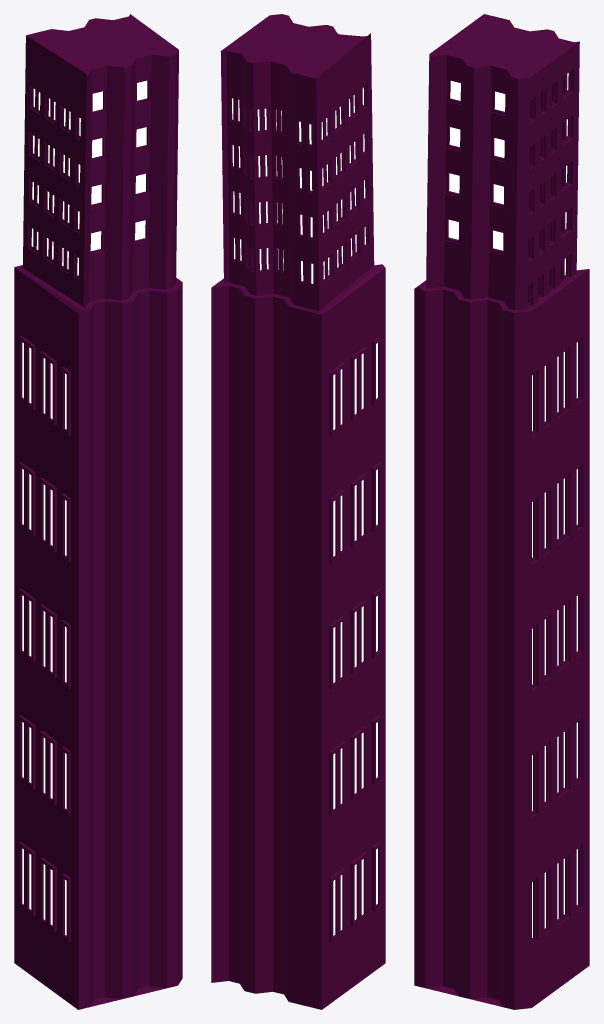
File: the_flag.fbx
3 renders of one model, left to right at view 1: azimuth 30°, elevation 25°; view 2: azimuth 150°, elevation 25°; view 3: azimuth 330°, elevation 25°, orthographic.
Visible parts, largest first — view 1: Vert; view 2: Vert; view 3: Vert.
Boxes of the visible parts, bbox=[...] form: Vert: bbox=[14, 14, 182, 1009]; Vert: bbox=[211, 14, 385, 1009]; Vert: bbox=[414, 14, 589, 1009].
Bounding box in the file's own units: 128 × 1003 × 125.
